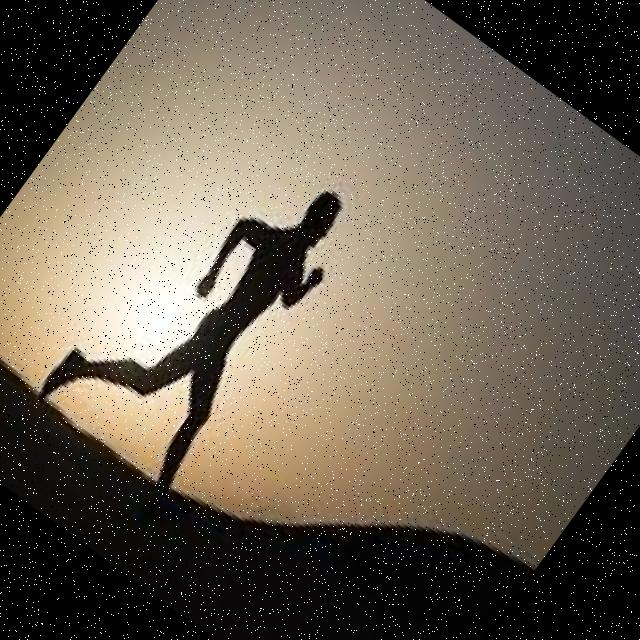Person: (35, 120, 368, 491)
